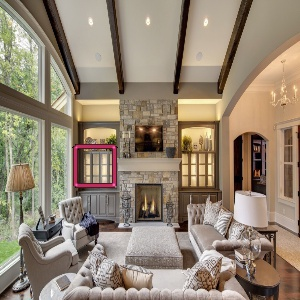square: (71, 142, 118, 188)
